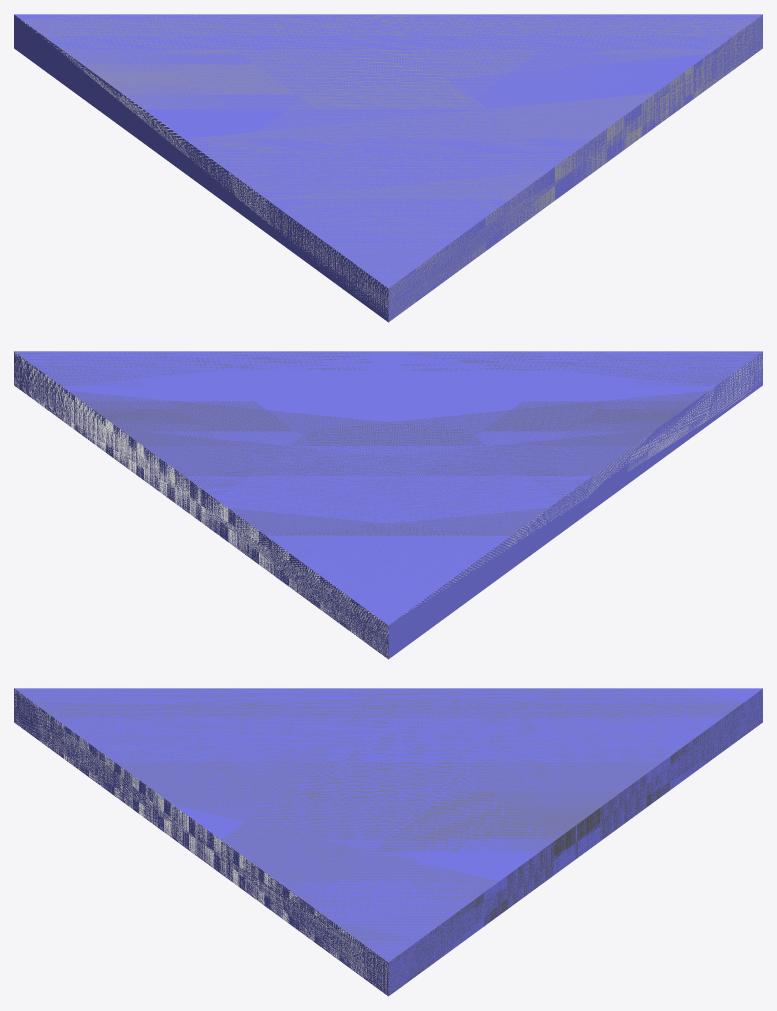
Rendered from SM_Dummy_Triangle_Ceiling.fbx.
The picture shows the model from 3 angles, top to bottom: view 1: azimuth 30°, elevation 25°; view 2: azimuth 150°, elevation 25°; view 3: azimuth 270°, elevation 25°; orthographic projection.
Parts seen in each view (by area): view 1: SM_Dummy_Triangle_Ceiling, SM_Dummy_Triangle_Ceiling_ConvexHulls; view 2: SM_Dummy_Triangle_Ceiling, SM_Dummy_Triangle_Ceiling_ConvexHulls; view 3: SM_Dummy_Triangle_Ceiling, SM_Dummy_Triangle_Ceiling_ConvexHulls.
Part boxes in pixels (x1,y1,x2,y2): SM_Dummy_Triangle_Ceiling: [14, 14, 762, 322]; SM_Dummy_Triangle_Ceiling_ConvexHulls: [21, 14, 762, 321]; SM_Dummy_Triangle_Ceiling: [14, 351, 762, 659]; SM_Dummy_Triangle_Ceiling_ConvexHulls: [14, 351, 762, 658]; SM_Dummy_Triangle_Ceiling: [14, 688, 762, 996]; SM_Dummy_Triangle_Ceiling_ConvexHulls: [14, 688, 762, 994].
Size of the model in its own units: 260 by 300 by 15.
Materials: 2 (1 with a texture image).
